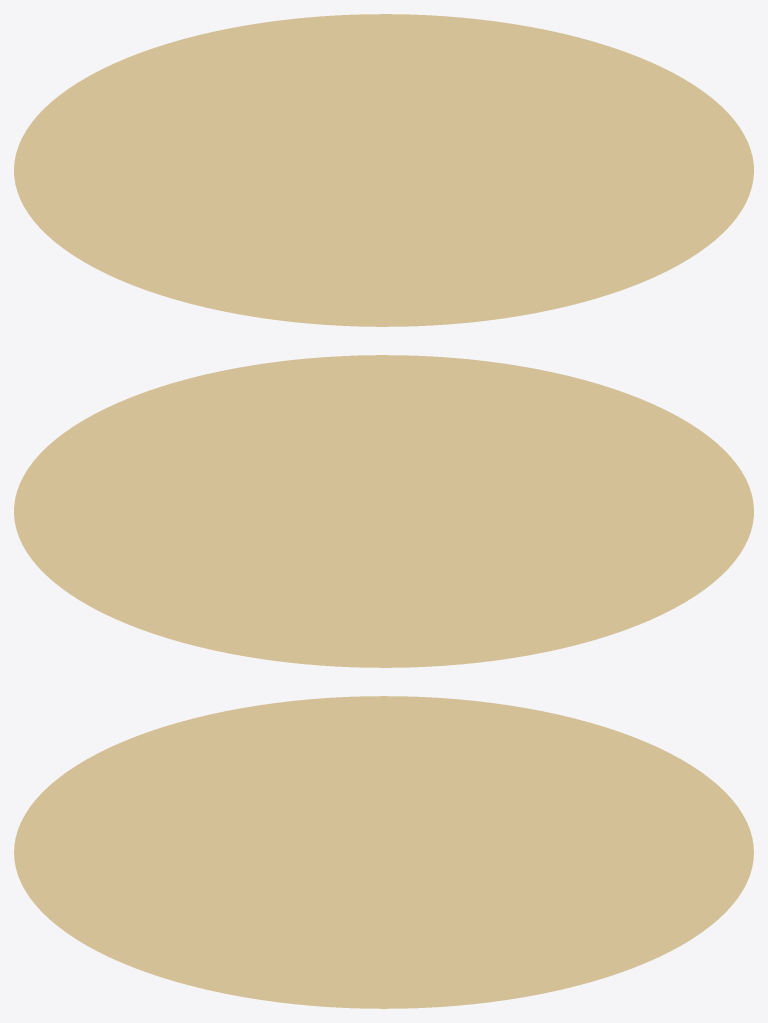
The model's file is ENV_Dimsum_Floor.fbx.
The picture shows the model from 3 angles, top to bottom: view 1: azimuth 30°, elevation 25°; view 2: azimuth 150°, elevation 25°; view 3: azimuth 270°, elevation 25°; orthographic projection.
Visible parts, largest first — view 1: ENV_Dimsum_Floor; view 2: ENV_Dimsum_Floor; view 3: ENV_Dimsum_Floor.
Boxes of the visible parts, <box> form: ENV_Dimsum_Floor: <box>14,14,753,326</box>; ENV_Dimsum_Floor: <box>14,355,753,667</box>; ENV_Dimsum_Floor: <box>14,696,753,1008</box>.
Size of the model in its own units: 50.8 by 2.22e-06 by 50.8.
